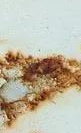Corrosion: (1, 50, 81, 130)
